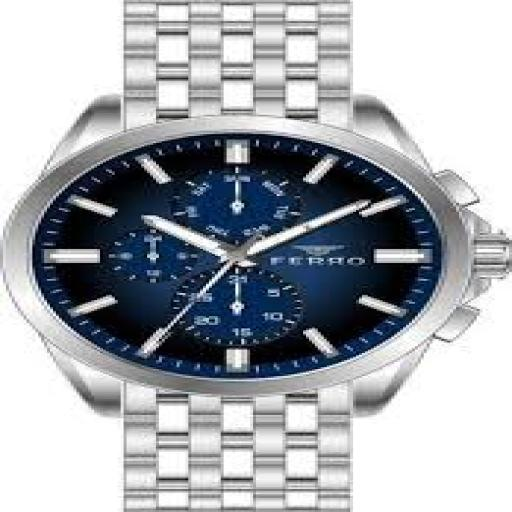KolSaati: (6, 1, 506, 502)
